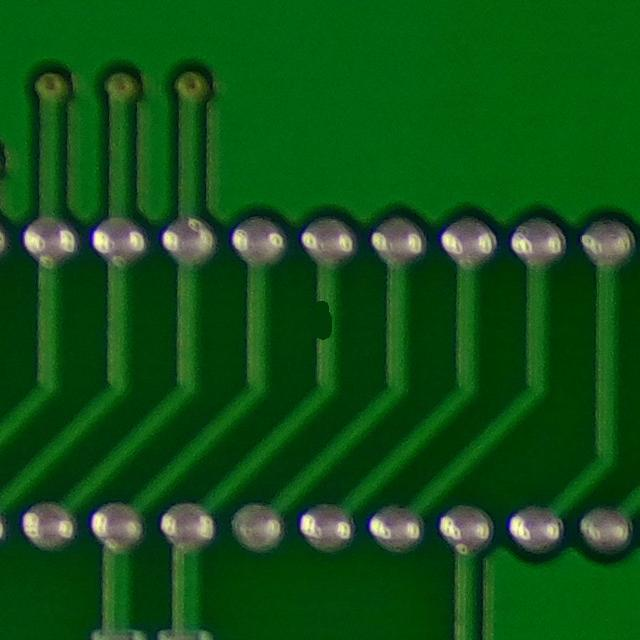mouse_bite: (297, 286, 344, 354)
